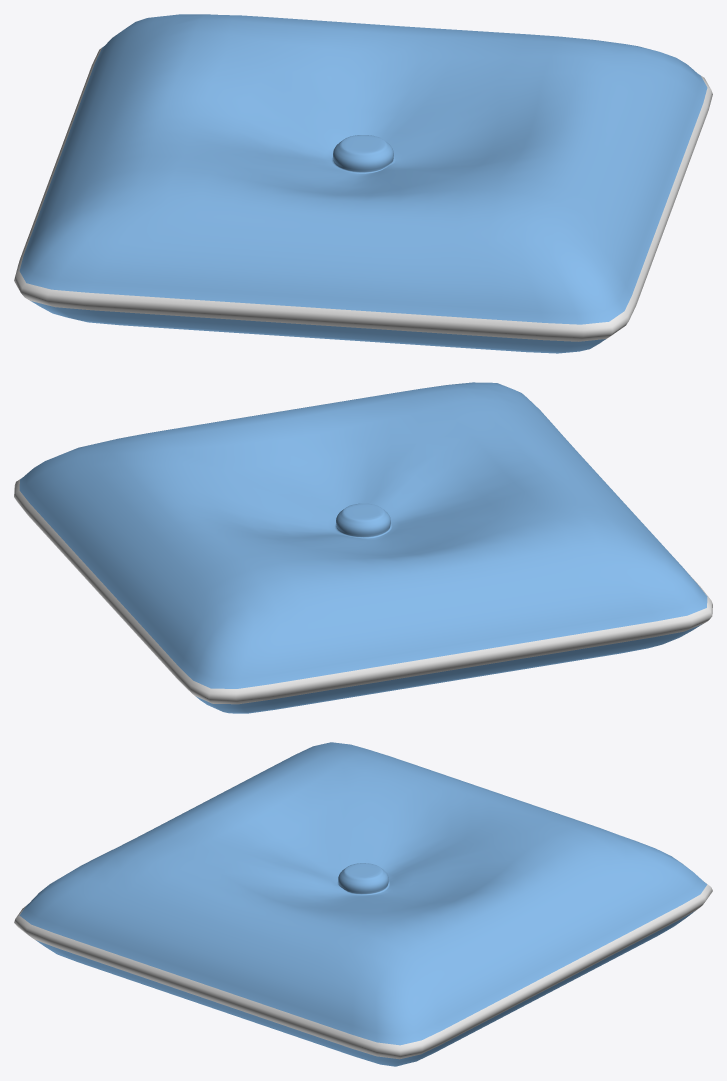
The model's file is Almofada.fbx.
3 views of the same model, one above another, from view 1: azimuth 30°, elevation 25°; view 2: azimuth 150°, elevation 25°; view 3: azimuth 270°, elevation 25° (orthographic). The views are drawn at different scales.
Visible parts, largest first — view 1: Cube.040; view 2: Cube.040; view 3: Cube.040.
Boxes of the visible parts, left/top/right/bottom form: Cube.040: left=14, top=14, right=712, bottom=353; Cube.040: left=14, top=382, right=712, bottom=713; Cube.040: left=14, top=742, right=712, bottom=1066.
Bounding box in the file's own units: 77.65 × 12.51 × 77.65.
